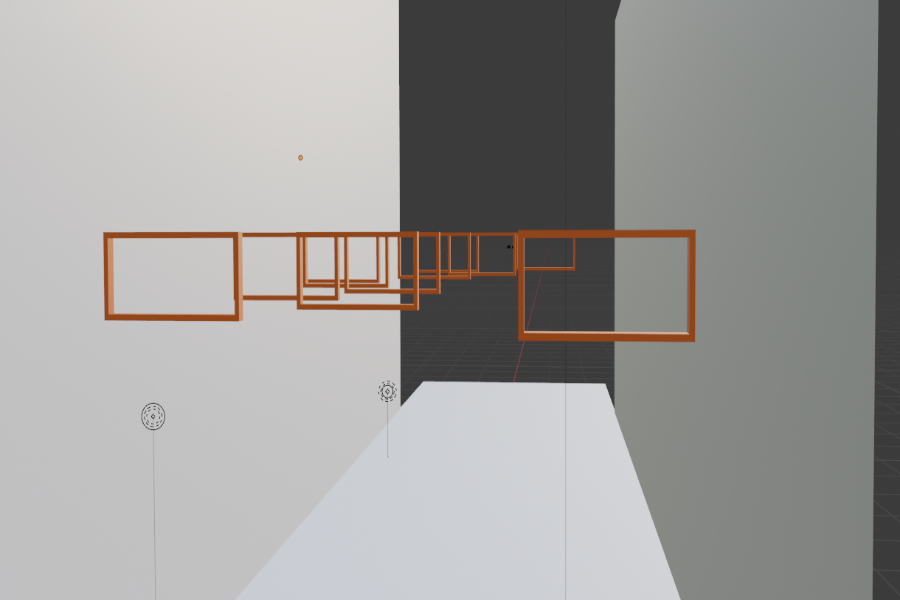GATE: (516, 227, 696, 342)
